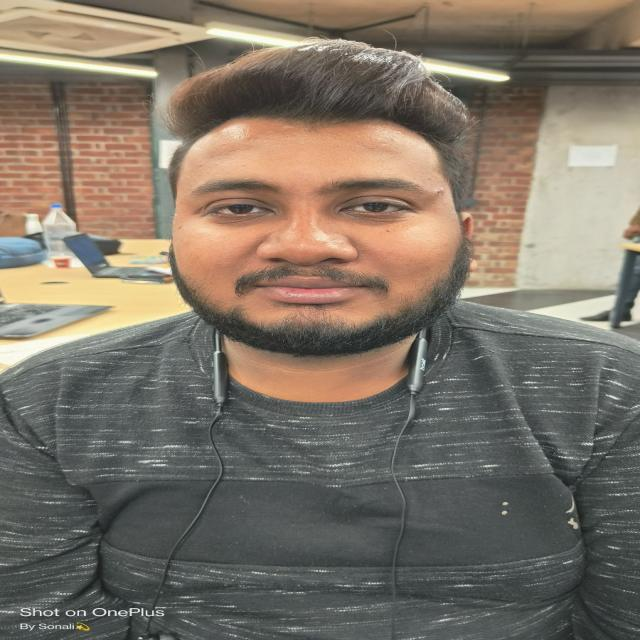Acne: (426, 180, 451, 200)
